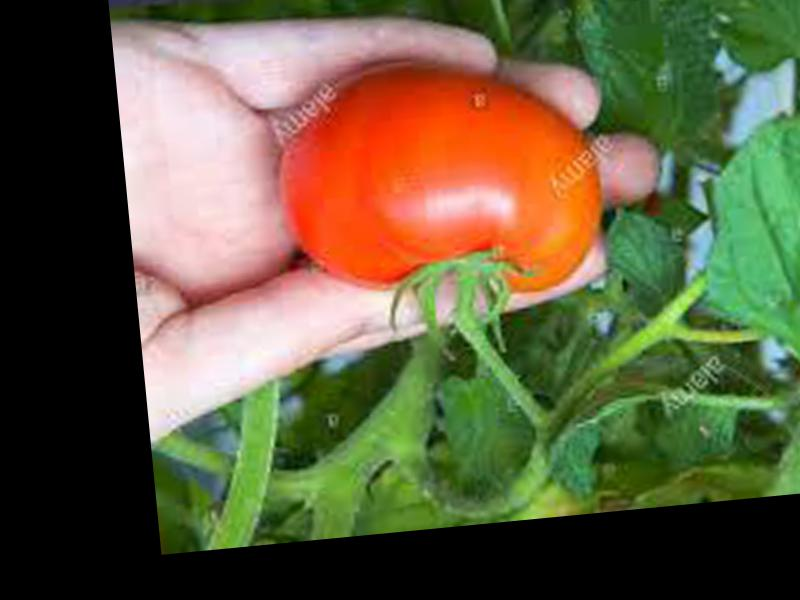Tomato: (267, 53, 609, 314)
